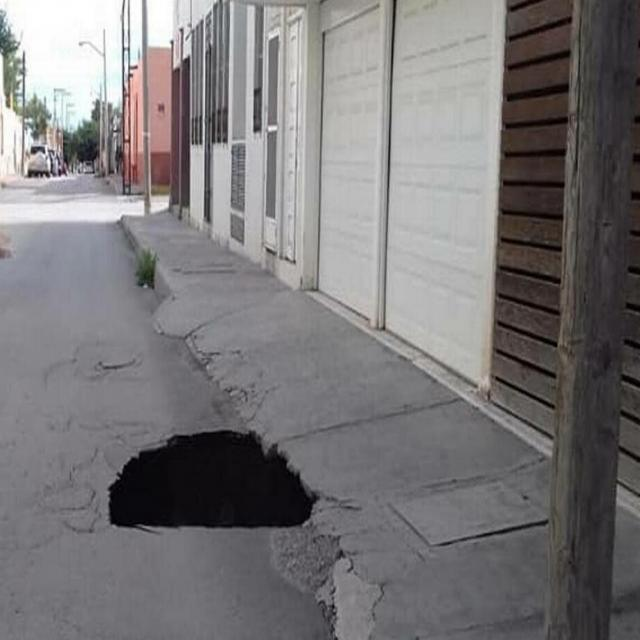Buraco: (101, 427, 328, 538)
